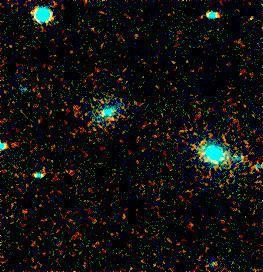star: (237, 3, 263, 33)
